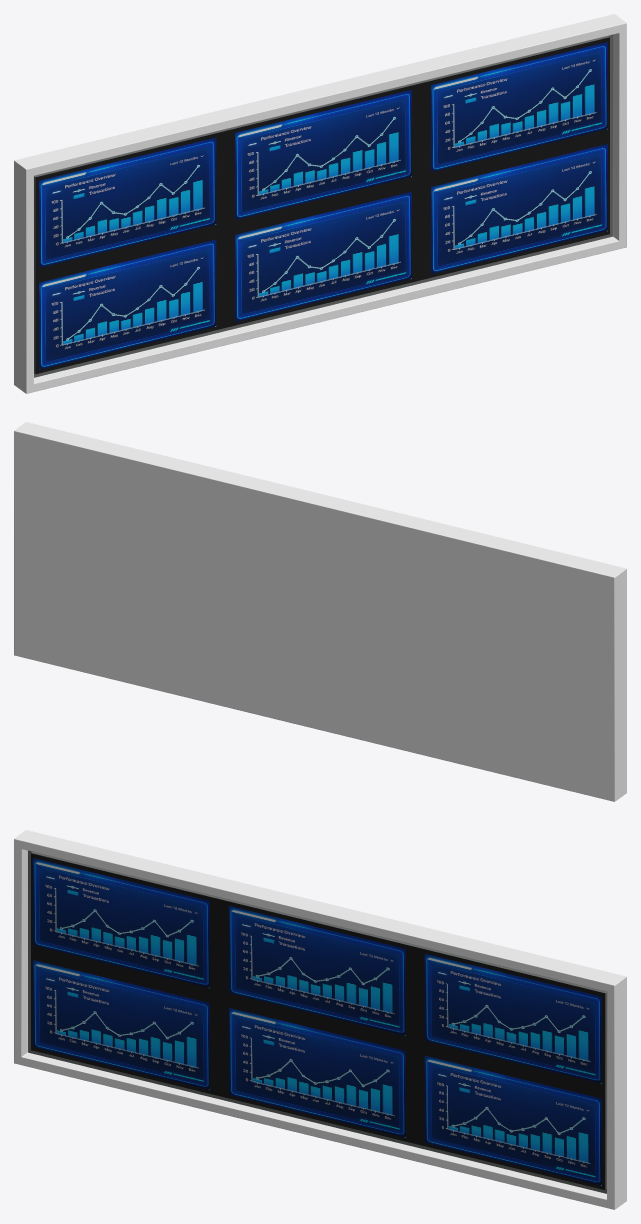
Rendered from WallDashboardScreen.fbx.
The picture shows the model from 3 angles, top to bottom: view 1: azimuth 30°, elevation 25°; view 2: azimuth 150°, elevation 25°; view 3: azimuth 330°, elevation 25°; orthographic projection.
Visible parts, largest first — view 1: WallDashboardScreen, WallDashboardScreenScreen; view 2: WallDashboardScreenScreen; view 3: WallDashboardScreen, WallDashboardScreenScreen.
Part boxes in pixels (<box>): WallDashboardScreen: <box>39,42,607,369</box>; WallDashboardScreenScreen: <box>14,14,626,393</box>; WallDashboardScreenScreen: <box>14,422,626,801</box>; WallDashboardScreen: <box>33,858,601,1185</box>; WallDashboardScreenScreen: <box>14,830,626,1209</box>.
Size of the model in its own units: 280 by 100 by 10.
2 materials, 2 textured.
